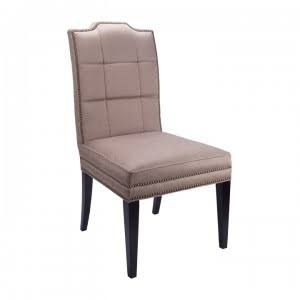chair: (53, 21, 234, 285)
